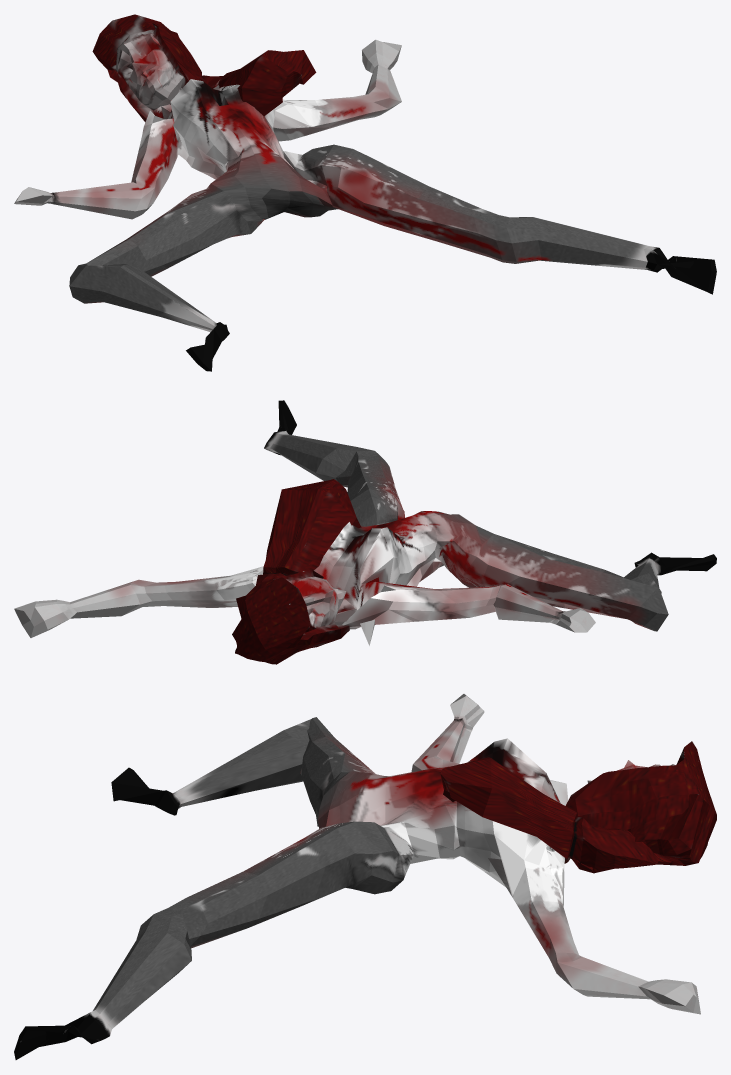
The picture shows the model from 3 angles, top to bottom: view 1: azimuth 30°, elevation 25°; view 2: azimuth 150°, elevation 25°; view 3: azimuth 270°, elevation 25°; orthographic projection. The views are drawn at different scales.
Visible parts, largest first — view 1: FD.003; view 2: FD.003; view 3: FD.003.
Part boxes in pixels (box(x1,y1,x2,y2)): FD.003: box(14, 14, 716, 371); FD.003: box(14, 400, 716, 664); FD.003: box(14, 694, 716, 1059).
Bounding box in the file's own units: 154 × 42.68 × 159.
